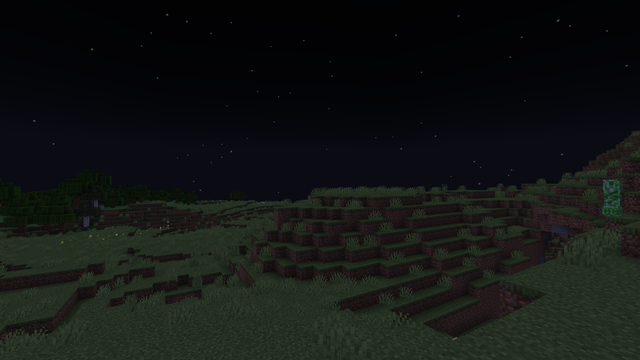creepers: (600, 178, 623, 216)
